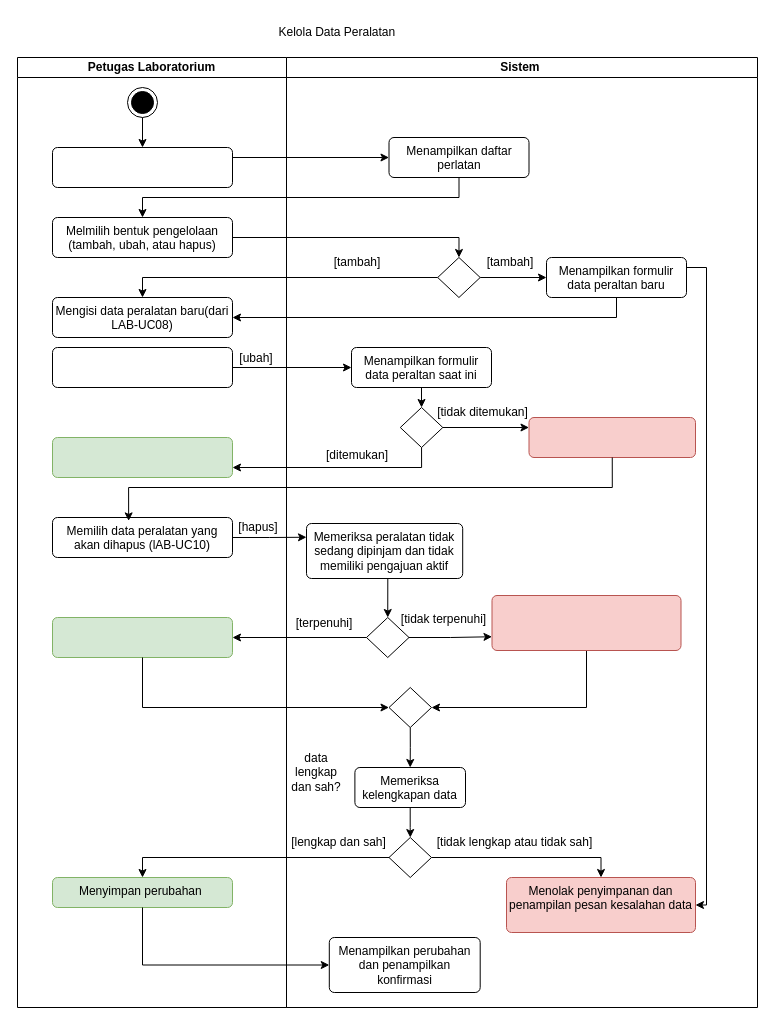
This 775x1025 diagram has some shape labels left out. The centre of each missing label's shape, as x and y in pixels:
"Membuka fungsi kelola data peralatan" belongs at [142,167].
"Memilih peraltan yang diubah (LAB-UC09)" belongs at [142,367].
"Menampilkan pesan data peralatan tidak diteukan" belongs at [612,437].
"Mengonfirmasi penghapusan (dari LAB-UC10)" belongs at [142,637].
"Mengubah data peralatan (dari LAB-UC09)" belongs at [142,457].
"Menutup konfirmasi tanpa mencetak bukti dan pengajuan tetap tersimpan" belongs at [586,622].
